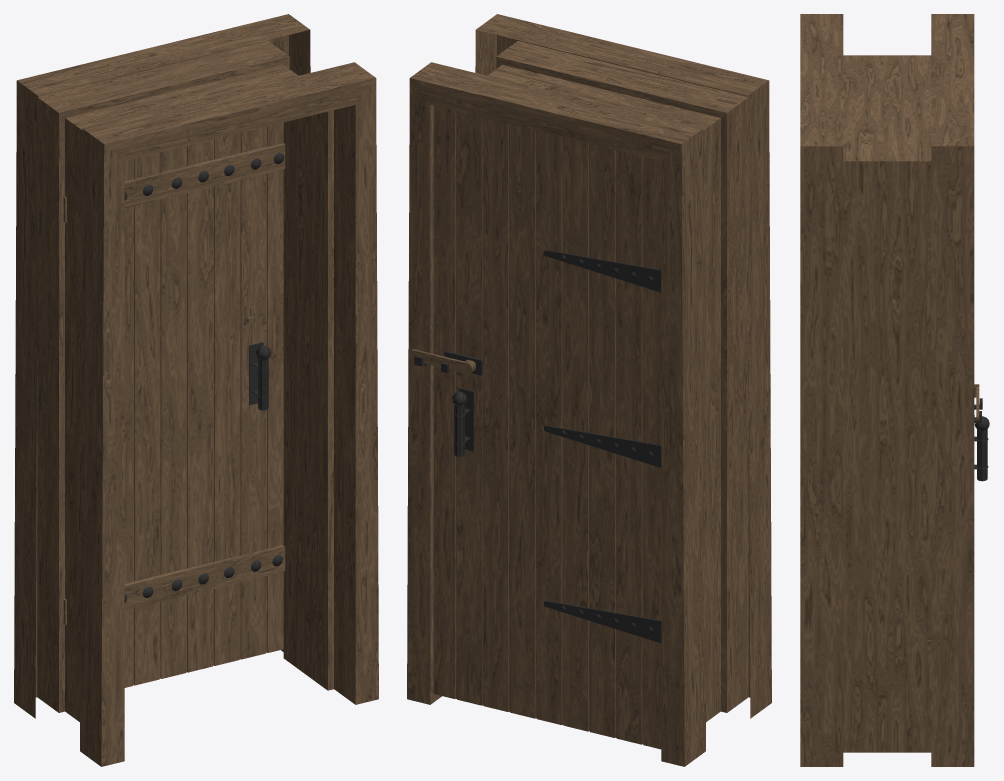
The picture shows the model from 3 angles, left to right: view 1: azimuth 30°, elevation 25°; view 2: azimuth 150°, elevation 25°; view 3: azimuth 270°, elevation 25°; orthographic projection.
Visible parts, largest first — view 1: Gatehouse - Frame.002_2, Door.001_1; view 2: Door.001_1, Gatehouse - Frame.002_2, Latch.010_0; view 3: Gatehouse - Frame.002_2, Door.001_1.
Boxes of the visible parts, x1,y1,x2,y2 form: Gatehouse - Frame.002_2: (14,14,378,766); Door.001_1: (39,43,287,701); Door.001_1: (433,105,661,749); Gatehouse - Frame.002_2: (407,14,771,766); Latch.010_0: (408,349,475,374); Gatehouse - Frame.002_2: (800,14,981,766); Door.001_1: (927,239,989,665).
Bounding box in the file's own units: 1.13 × 2.41 × 0.6689.
2 materials, 1 textured.
